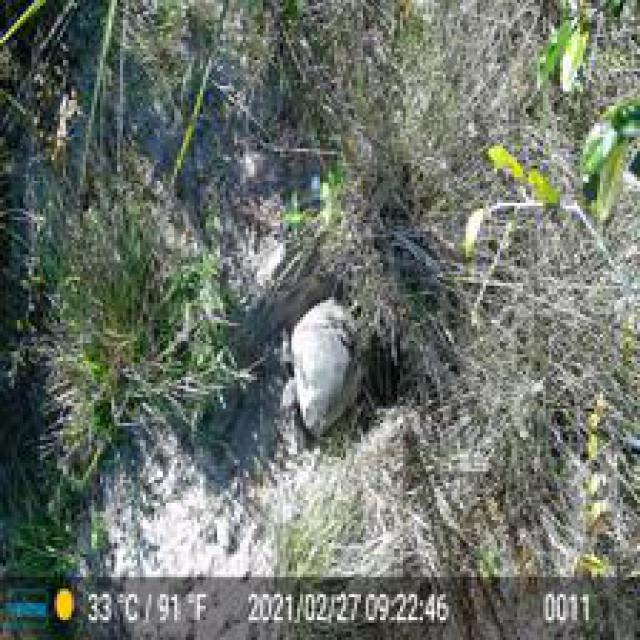tortoise: (286, 294, 369, 446)
